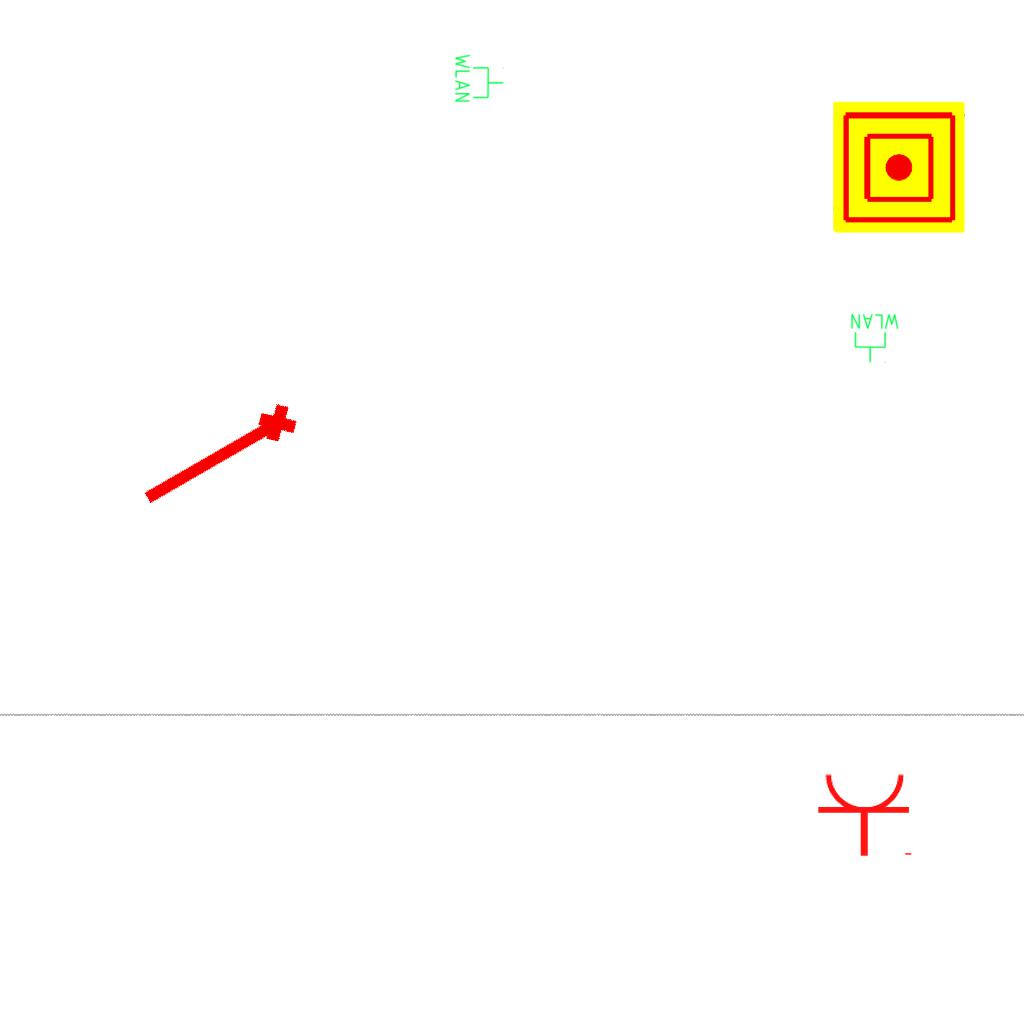ASR_Ansaugoeffnung: (132, 395, 308, 523)
NAM-Nichtautomatischer_Melder: (833, 101, 965, 233)
Schukosteckdose_einfach: (816, 771, 916, 858)
WLAN: (453, 52, 505, 104), (849, 312, 901, 364)
